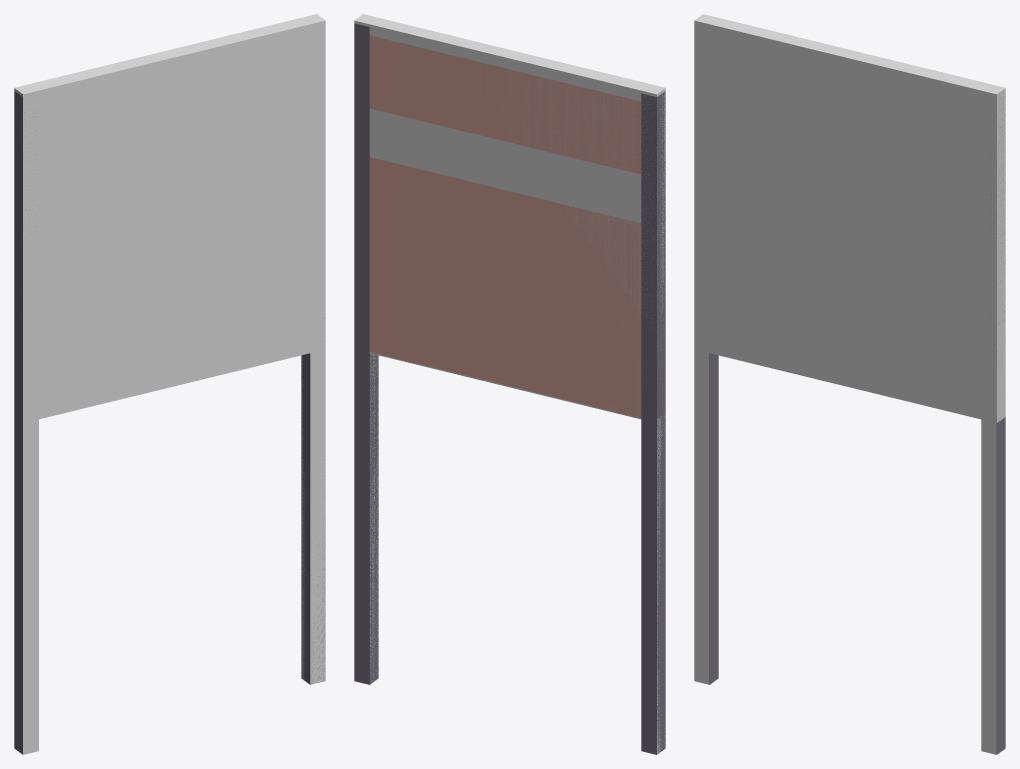
Rendered from Banner02_B1_1_01.FBX.
The picture shows the model from 3 angles, left to right: view 1: azimuth 30°, elevation 25°; view 2: azimuth 150°, elevation 25°; view 3: azimuth 330°, elevation 25°; orthographic projection.
Parts seen in each view (by area): view 1: Banner02_B1_Damage_1_01, Banner02_B1_Live_1_01; view 2: Banner02_B1_Live_1_01, Banner02_B1_Damage_1_01; view 3: Banner02_B1_Damage_1_01, Banner02_B1_Live_1_01.
Boxes of the visible parts, x1,y1,x2,y2 form: Banner02_B1_Damage_1_01: [14, 14, 325, 754]; Banner02_B1_Live_1_01: [14, 91, 325, 754]; Banner02_B1_Live_1_01: [354, 23, 665, 754]; Banner02_B1_Damage_1_01: [354, 14, 665, 754]; Banner02_B1_Damage_1_01: [694, 14, 1005, 754]; Banner02_B1_Live_1_01: [709, 94, 1005, 754].
Bounding box in the file's own units: 2.97 × 6.2 × 0.1524.
